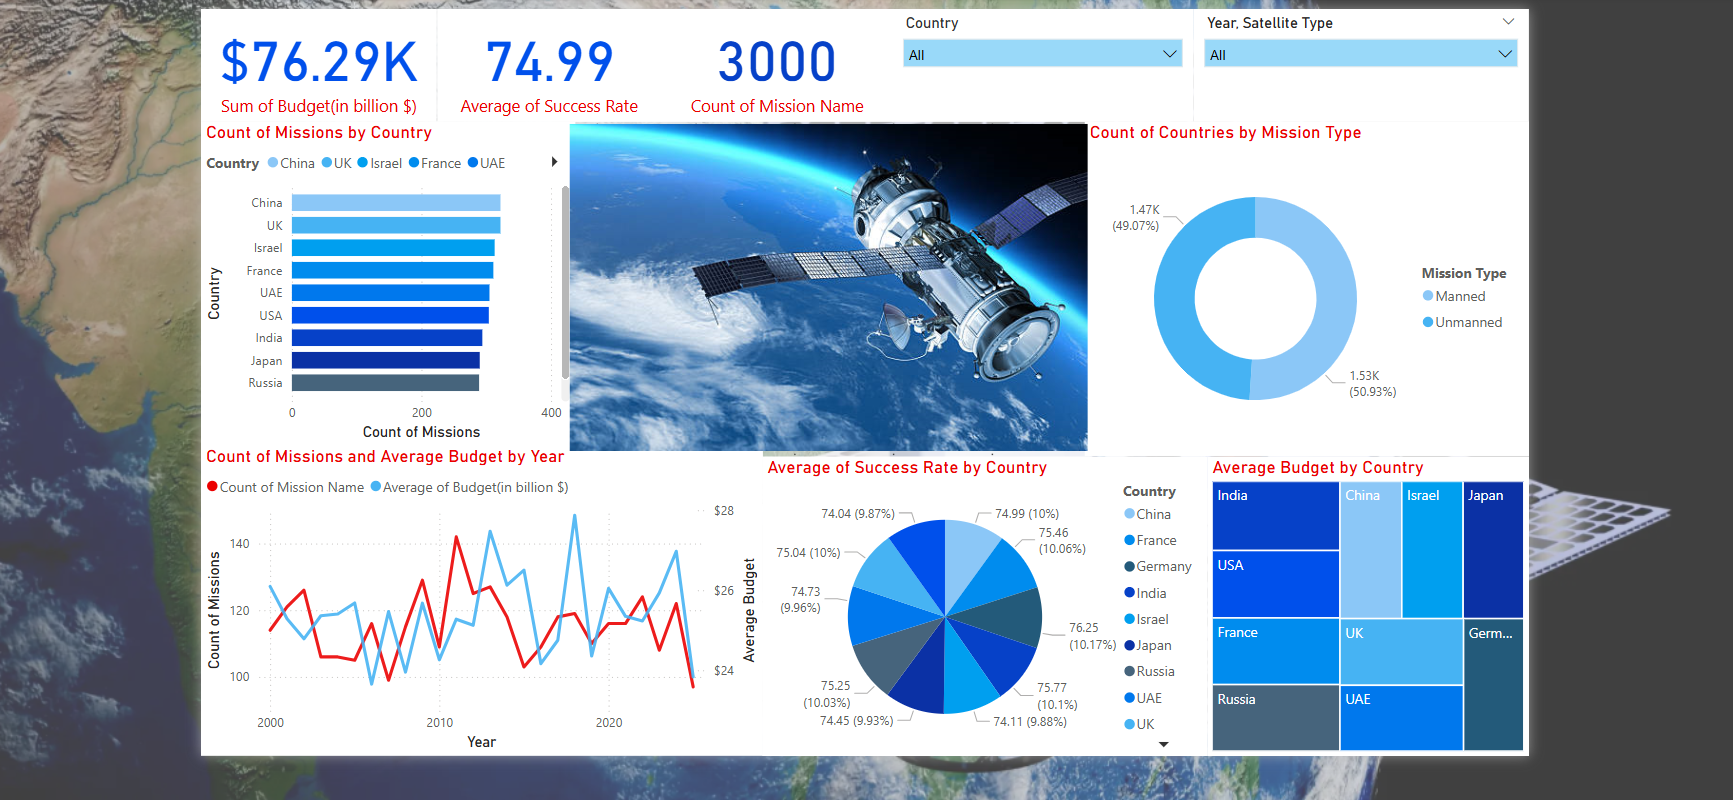

Layout of this report page (visuals, bound fields, positions):
{"tool":"powerbi","page":{"name":"Page 1","canvas":[1280,720],"ordinal":0},"visuals":[{"type":"barChart","title":"Count of Missions by Country","fields":{"Category":["Global_Space_Exploration_Dataset.Country"],"Y":["CountNonNull(Global_Space_Exploration_Dataset.Mission Name)"],"Series":["Global_Space_Exploration_Dataset.Country"]},"box":[0,108.3,360.6,312.6],"z":0},{"type":"card","fields":{"Values":["Sum(Global_Space_Exploration_Dataset.Budget(in billion $))"]},"box":[0,0,227.5,108.8],"z":1000},{"type":"card","fields":{"Values":["Avg(Global_Space_Exploration_Dataset.Success Rate)"]},"box":[227.5,0,216.2,108.8],"z":2000},{"type":"card","fields":{"Values":["CountNonNull(Global_Space_Exploration_Dataset.Mission Name)"]},"box":[442.9,0,224.3,108.6],"z":3000},{"type":"pieChart","fields":{"Y":["Avg(Global_Space_Exploration_Dataset.Success Rate)"],"Series":["Global_Space_Exploration_Dataset.Country"]},"box":[541.4,430.9,428.7,290.2],"z":4000},{"type":"treemap","title":"Average Budget by Country","fields":{"Details":["Global_Space_Exploration_Dataset.Country"],"Values":["Avg(Global_Space_Exploration_Dataset.Budget(in billion $))"]},"box":[970,430.9,310.3,289.1],"z":5000},{"type":"donutChart","title":"Count of Countries by Mission Type","fields":{"Y":["CountNonNull(Global_Space_Exploration_Dataset.Country)"],"Series":["Global_Space_Exploration_Dataset.Mission Type"]},"box":[851.7,108.3,428.7,322.6],"z":6000},{"type":"slicer","fields":{"Values":["Global_Space_Exploration_Dataset.Country"]},"box":[666.2,0,290,108.8],"z":7000},{"type":"slicer","fields":{"Values":["Global_Space_Exploration_Dataset.Year","Global_Space_Exploration_Dataset.Satellite Type"]},"box":[956.2,0,323.8,106.2],"z":8000},{"type":"lineChart","title":"Count of Missions and Average Budget by Year","fields":{"Category":["Global_Space_Exploration_Dataset.Year"],"Y":["CountNonNull(Global_Space_Exploration_Dataset.Mission Name)"],"Y2":["Avg(Global_Space_Exploration_Dataset.Budget(in billion $))"]},"box":[0,420.8,541.4,299.2],"z":9000},{"type":"image","box":[350.5,106,509,324.8],"z":10000}]}

Visuals, with their boxes on the page's 1280x720 design canvas (x1, y1, x2, y2). These are canvas units, not pixel positions in the 1733x800 screenshot, which may show the page scaled, cropped or inside an application window:
"Count of Missions by Country" barChart: (left=0, top=108, right=361, bottom=421)
card - Sum(Global_Space_Exploration_Dataset.Budget(in billion $)): (left=0, top=0, right=228, bottom=109)
card - Avg(Global_Space_Exploration_Dataset.Success Rate): (left=228, top=0, right=444, bottom=109)
card - CountNonNull(Global_Space_Exploration_Dataset.Mission Name): (left=443, top=0, right=667, bottom=109)
pieChart - Avg(Global_Space_Exploration_Dataset.Success Rate) x Global_Space_Exploration_Dataset.Country: (left=541, top=431, right=970, bottom=721)
"Average Budget by Country" treemap: (left=970, top=431, right=1280, bottom=720)
"Count of Countries by Mission Type" donutChart: (left=852, top=108, right=1280, bottom=431)
slicer - Global_Space_Exploration_Dataset.Country: (left=666, top=0, right=956, bottom=109)
slicer - Global_Space_Exploration_Dataset.Year x Global_Space_Exploration_Dataset.Satellite Type: (left=956, top=0, right=1280, bottom=106)
"Count of Missions and Average Budget by Year" lineChart: (left=0, top=421, right=541, bottom=720)
image: (left=350, top=106, right=860, bottom=431)
